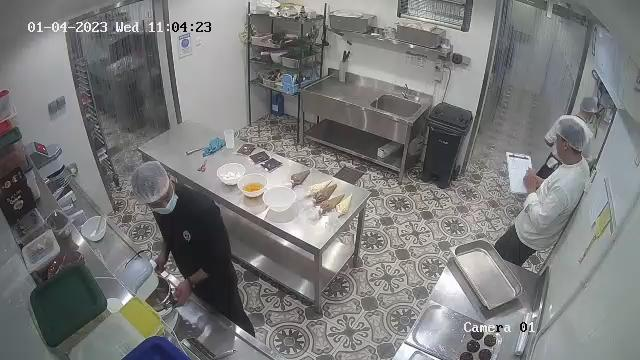no_apron: (159, 193, 232, 297), (519, 166, 587, 248)
